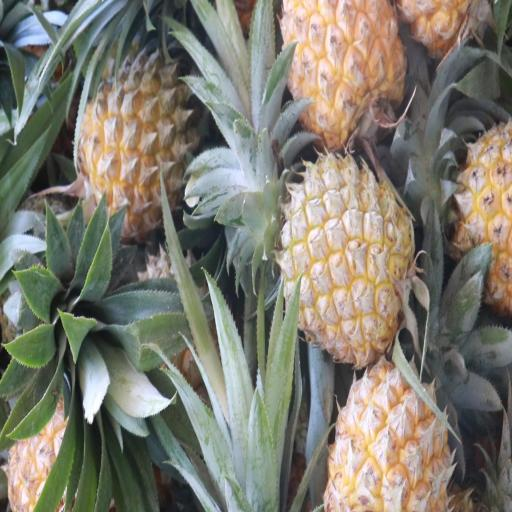------------------------------: (76, 52, 198, 244)
Pineapple - v8 v1: (280, 150, 412, 357), (327, 354, 453, 512), (288, 0, 410, 142)
